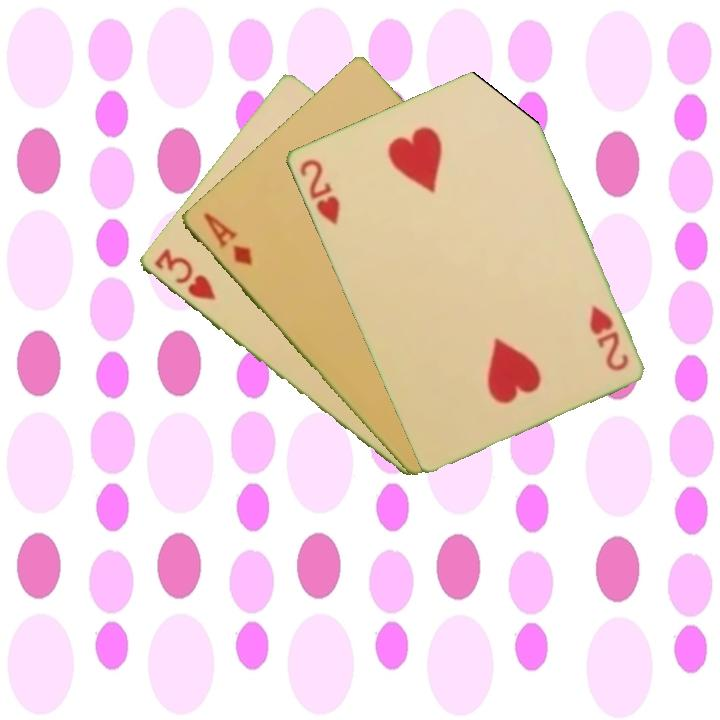2h: (295, 155, 342, 227), (585, 301, 631, 374)
3h: (150, 245, 219, 304)
Ad: (199, 209, 255, 270)
